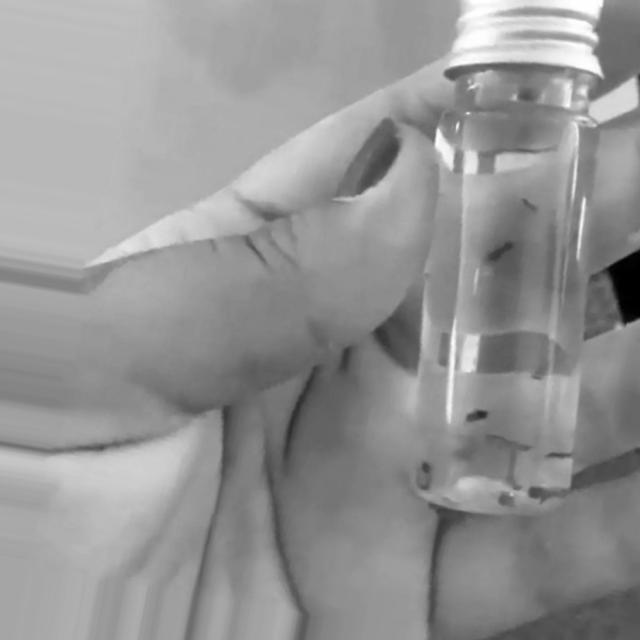larvas: (529, 483, 571, 502), (486, 430, 527, 449), (485, 238, 516, 263), (415, 462, 434, 491), (510, 449, 522, 491), (516, 195, 541, 209), (466, 410, 489, 422), (543, 451, 573, 460)
